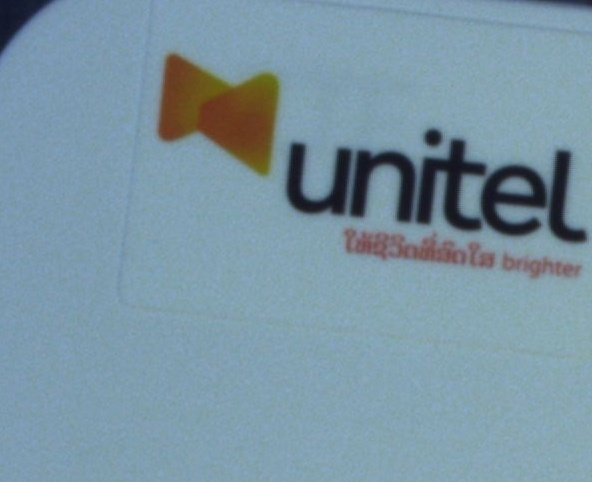BT_unitel: (159, 47, 588, 281)
